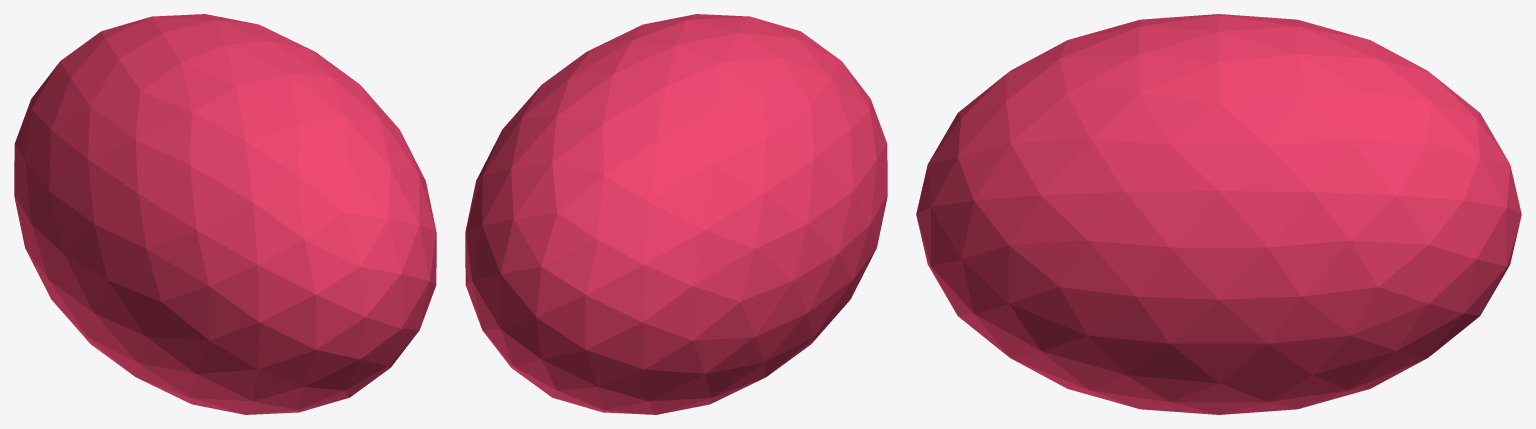
Rendered from gem_pear_ruby.glb.
3 views of the same model, side by side, from view 1: azimuth 30°, elevation 25°; view 2: azimuth 150°, elevation 25°; view 3: azimuth 270°, elevation 25° (orthographic). The views are drawn at different scales.
Visible parts, largest first — view 1: world; view 2: world; view 3: world.
Boxes of the visible parts, bbox=[...] form: world: bbox=[14, 14, 436, 414]; world: bbox=[465, 14, 887, 414]; world: bbox=[916, 14, 1521, 414].
Bounding box in the file's own units: 0.012 × 0.012 × 0.018.
